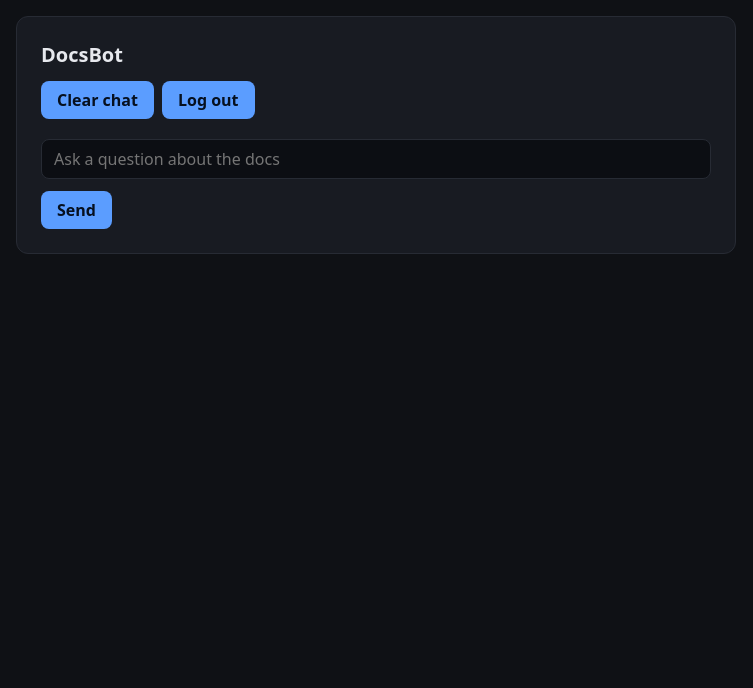
it: clickable citations › keeps citations attached to their own message
Type "one" into the field at (376, 159), box [41,139,711,179]
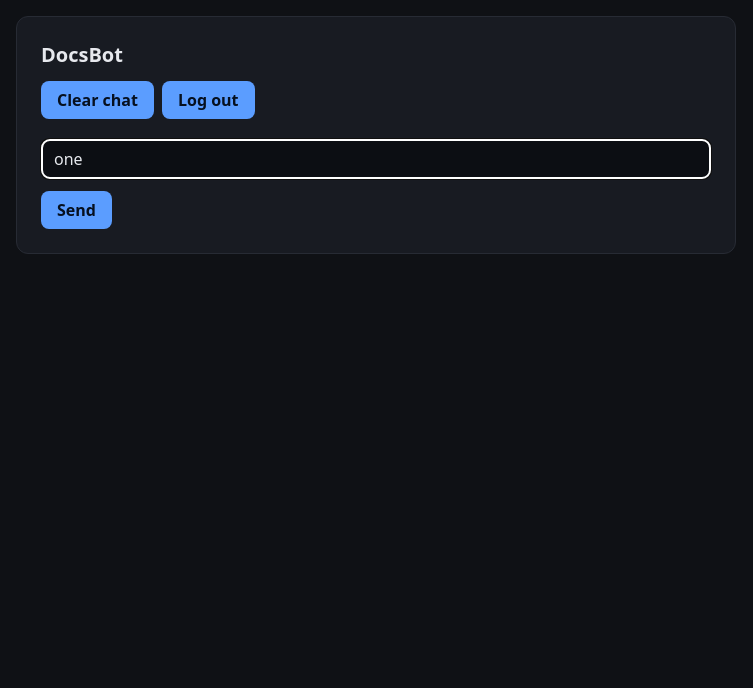
Click the button "Send" at (76, 210), box [41,191,112,229]
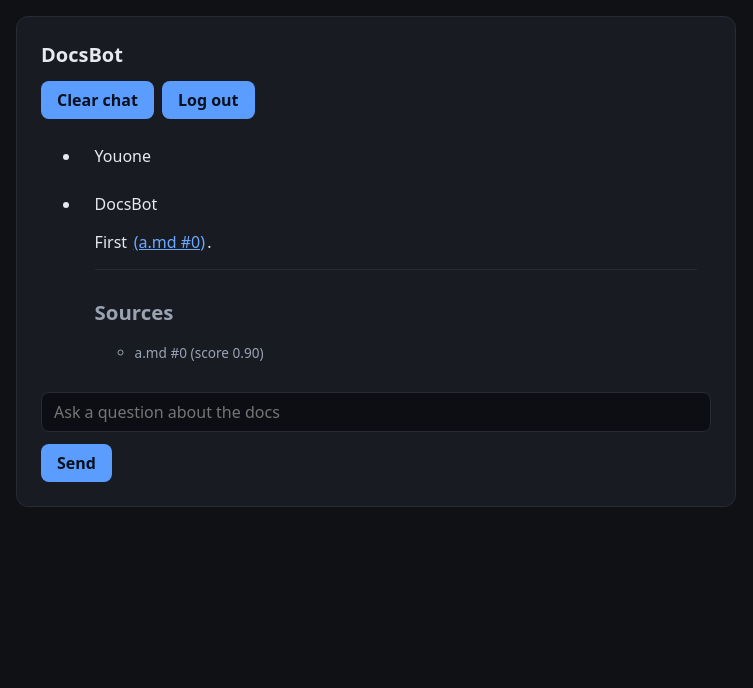
Expected: the button "(a.md #0)" is shown, [131,231,207,253]
Type "two" into the field at (376, 412), box [41,392,711,432]
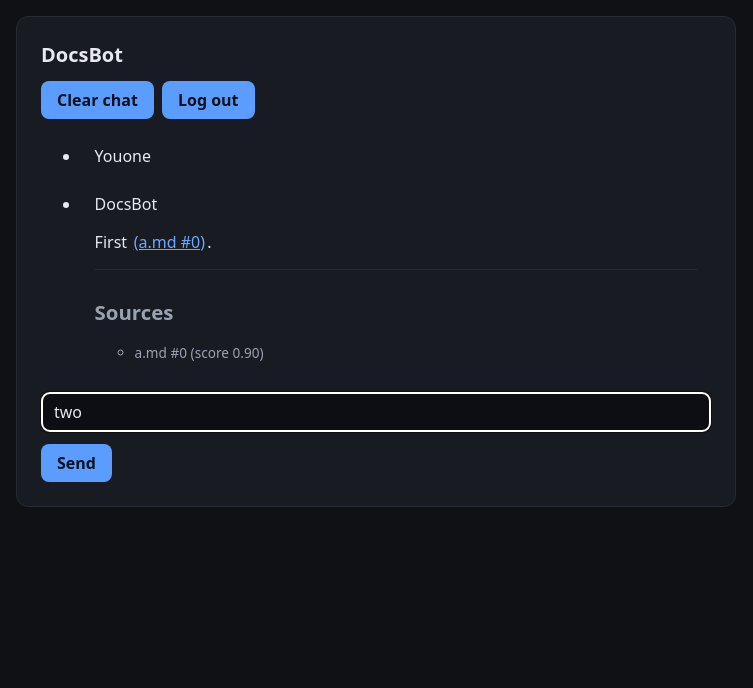
Click the button "Send" at (76, 463), box [41,444,112,482]
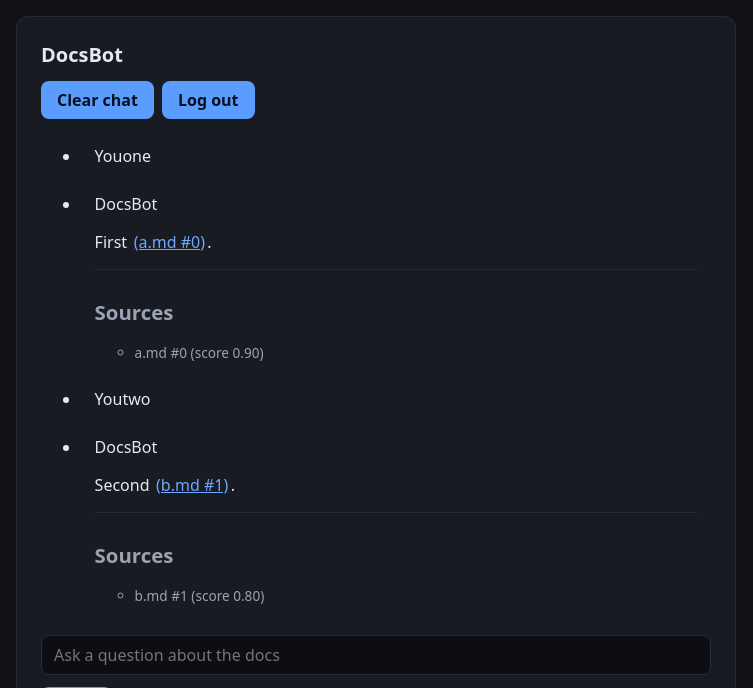
Expected: the button "(b.md #1)" is shown, [154,474,231,496]
Click the button "(a.md #0)" at (169, 242), box [131,231,207,253]
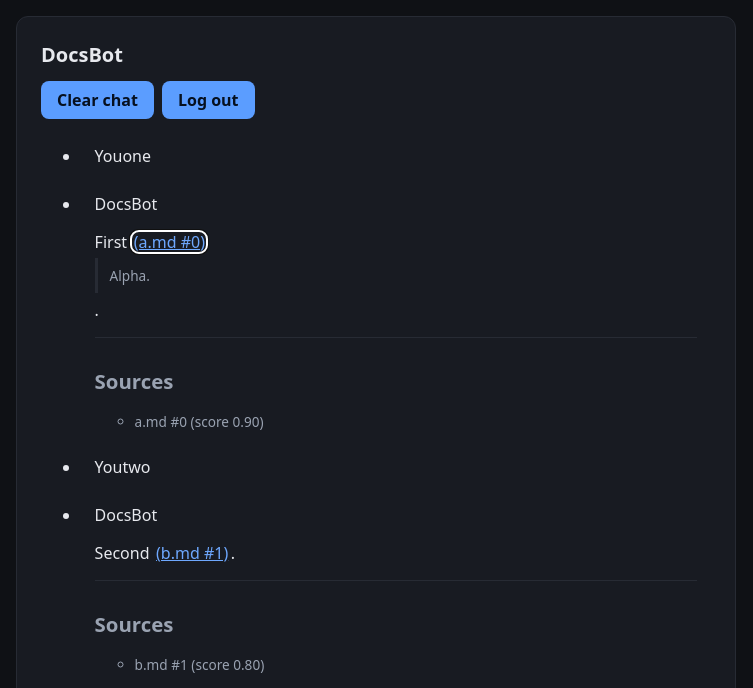
Expected: the text "Alpha." is shown, [95,258,697,293]
